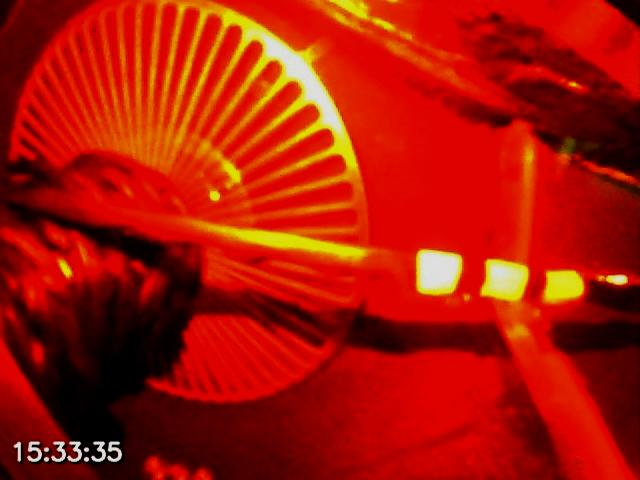white-dots: (414, 249, 585, 305)
